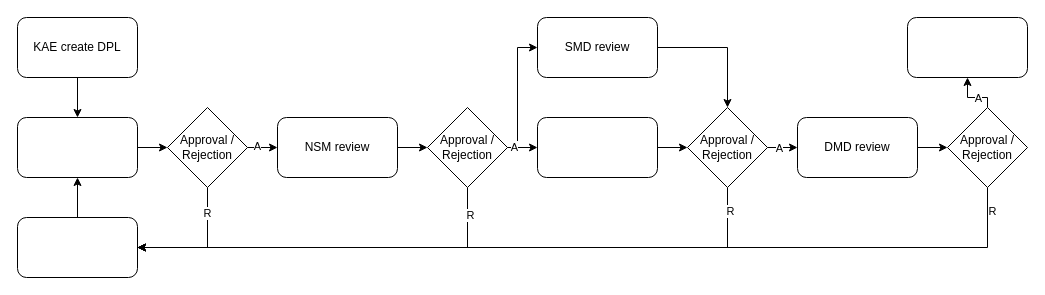
Some shapes in this 1045 by 295 pixel diagram are drawn without their labels. The centre of each missing label's shape, as x and y in pixels:
DPL Valid: (x=967, y=47)
GM review: (x=597, y=147)
KAE edit DPL: (x=77, y=247)
RM review: (x=77, y=147)
